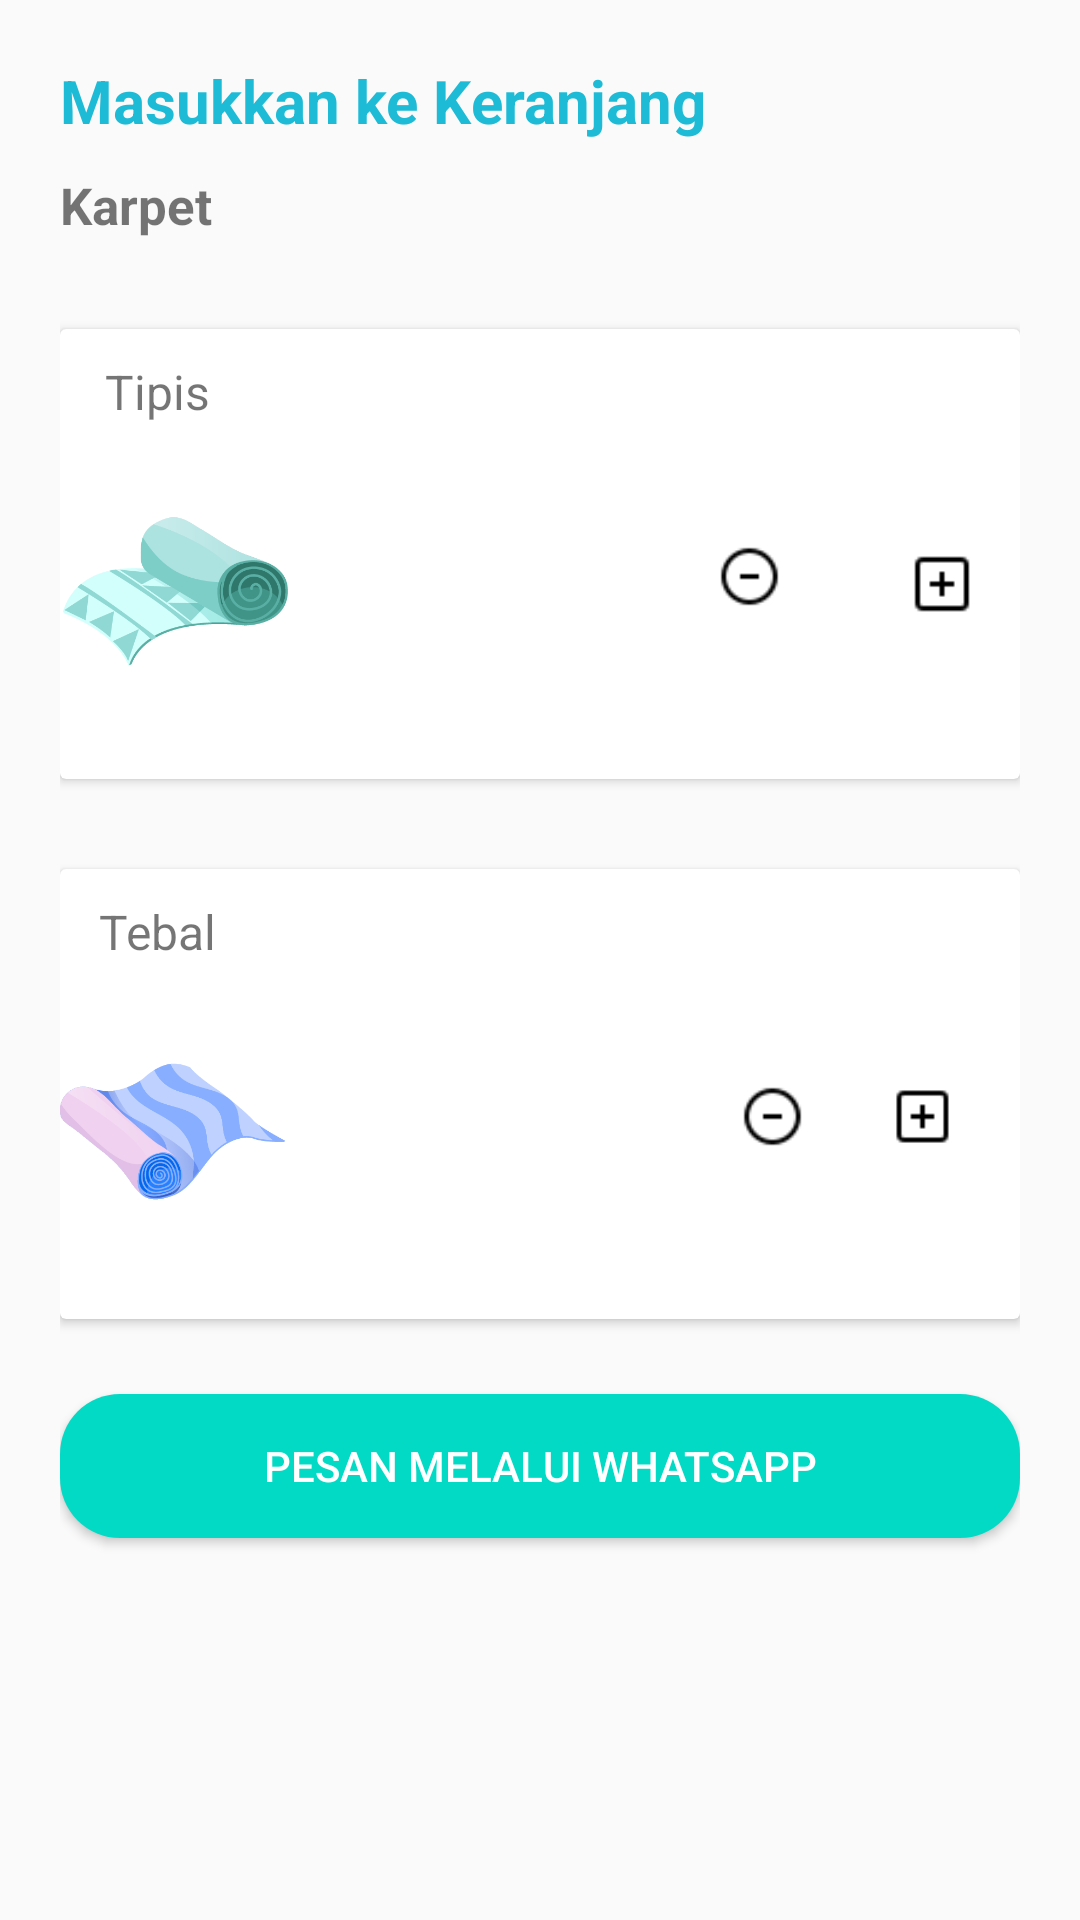

Where icons sit on this 1080 × 1920 app screen, as (left=x1, top=y1, right=x2, bottom=y2):
karpet: (left=63, top=517, right=288, bottom=665), (left=60, top=1064, right=285, bottom=1200)
minus: (left=720, top=547, right=779, bottom=606), (left=743, top=1087, right=802, bottom=1146)
plus: (left=914, top=556, right=970, bottom=612), (left=896, top=1090, right=949, bottom=1143)
